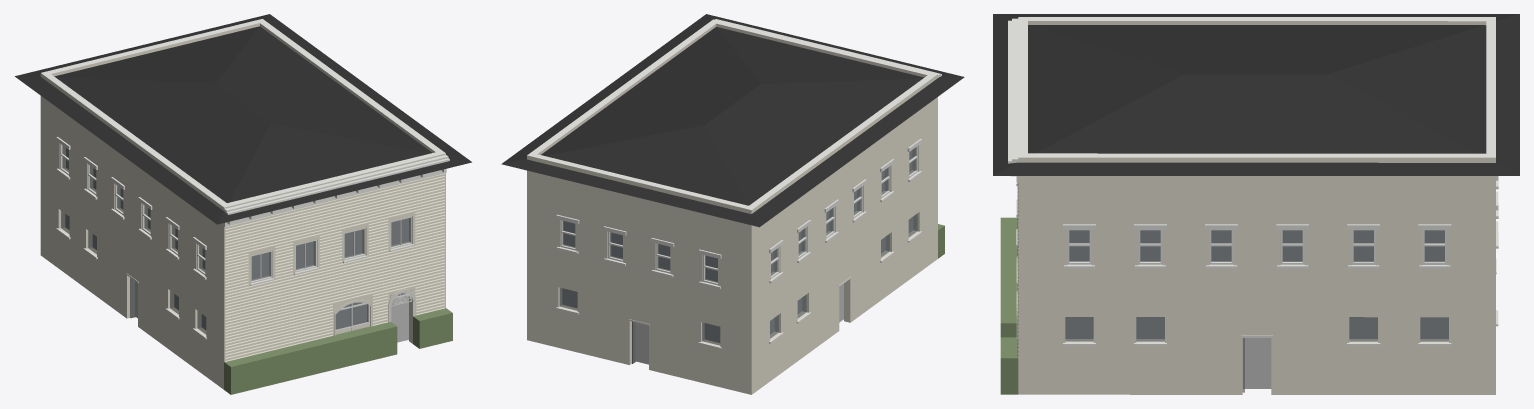
Rendered from exterior.glb.
3 renders of one model, left to right at view 1: azimuth 30°, elevation 25°; view 2: azimuth 150°, elevation 25°; view 3: azimuth 270°, elevation 25°, orthographic. The views are drawn at different scales.
Parts seen in each view (by area): view 1: shell, relief-3, hyD-lap-3, plinth, trim, glazing, shadow-proxy, frames, hyC-arches-3, storefront; view 2: shell, relief-3, glazing, shadow-proxy, trim, frames; view 3: shell, relief-3, shadow-proxy, glazing, trim, plinth, frames.
Boxes of the visible parts, x1,y1,x2,y2 form: shell: (40,19,445,389); relief-3: (15,14,471,224); hyD-lap-3: (225,173,444,361); plinth: (224,308,452,394); trim: (56,137,449,339); glazing: (61,145,410,334); shadow-proxy: (65,148,408,342); frames: (60,144,412,283); hyC-arches-3: (334,289,416,335); storefront: (126,273,409,334); shell: (527,19,937,394); relief-3: (501,14,964,227); glazing: (559,148,917,345); shadow-proxy: (562,150,912,364); trim: (556,19,941,349); frames: (560,146,918,285); shell: (1018,17,1495,394); relief-3: (993,14,1519,175); shadow-proxy: (1065,230,1448,388); glazing: (1065,230,1448,341); trim: (1008,18,1498,346); plinth: (1000,217,1018,394); frames: (1067,230,1446,264).
Bounding box in the file's own units: 13.4 × 9.65 × 18.42.
